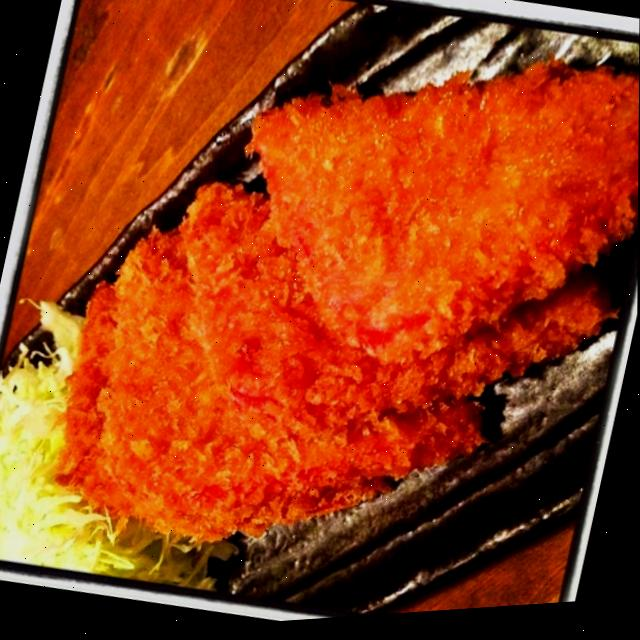炸货点心: (9, 0, 640, 639)
